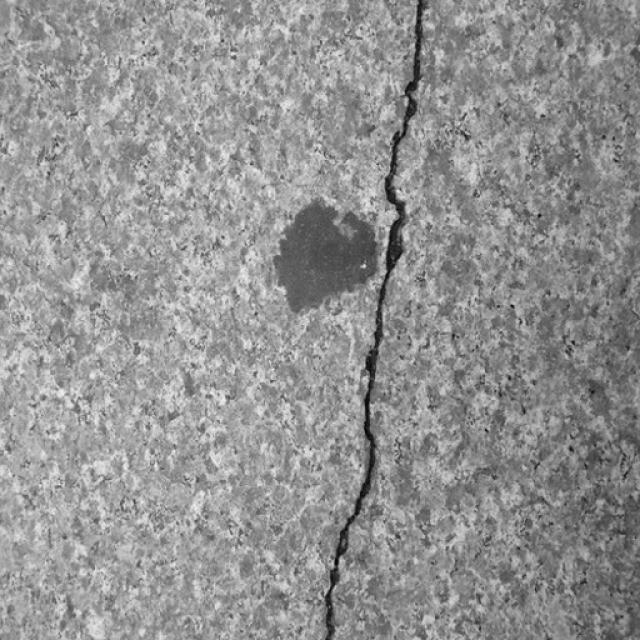SurfaceCrack: (272, 0, 480, 640)
